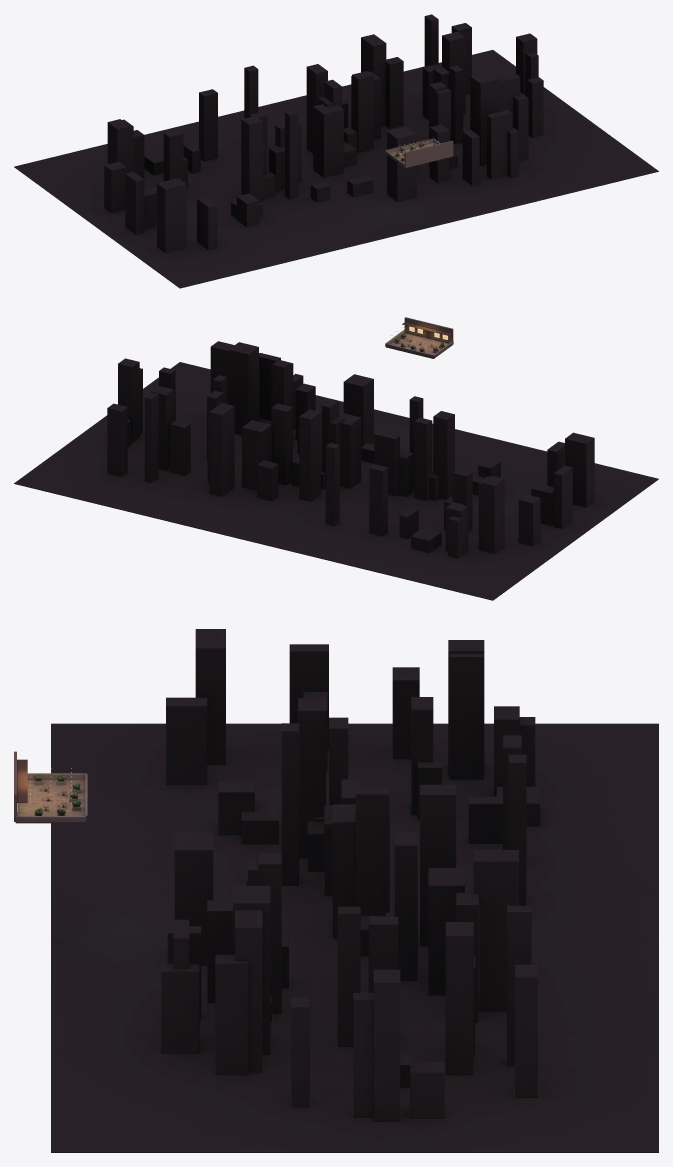
File: terrace.glb
3 views of the same model, one above another, from view 1: azimuth 30°, elevation 25°; view 2: azimuth 150°, elevation 25°; view 3: azimuth 270°, elevation 25° (orthographic). The views are drawn at different scales.
Parts seen in each view (by area): view 1: Shell; view 2: Shell; view 3: Shell.
Part boxes in pixels (x1,y1,x2,y2): Shell: (14,14,658,288); Shell: (14,317,658,600); Shell: (14,629,658,1152).
Size of the model in its own units: 200 by 36.1 by 127.
Materials: 5 (2 with a texture image).
